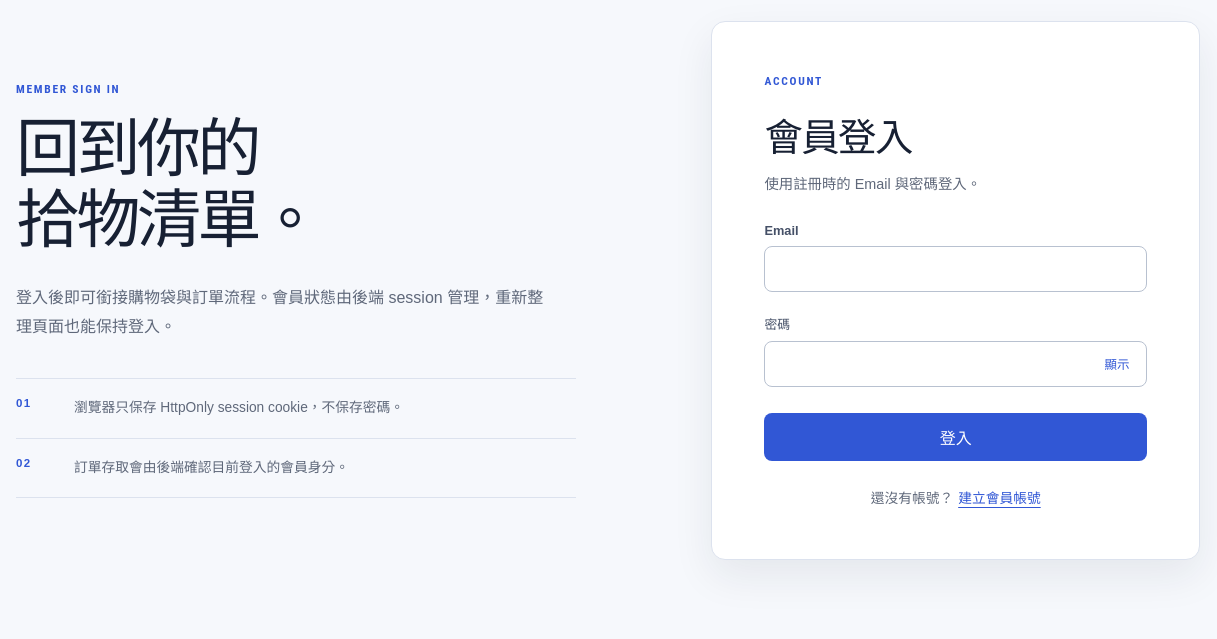
Test case: LoginPage › 阻止空白表單送出並聚焦 Email
Click the button "登入": (956, 436) [764,412,1147,460]
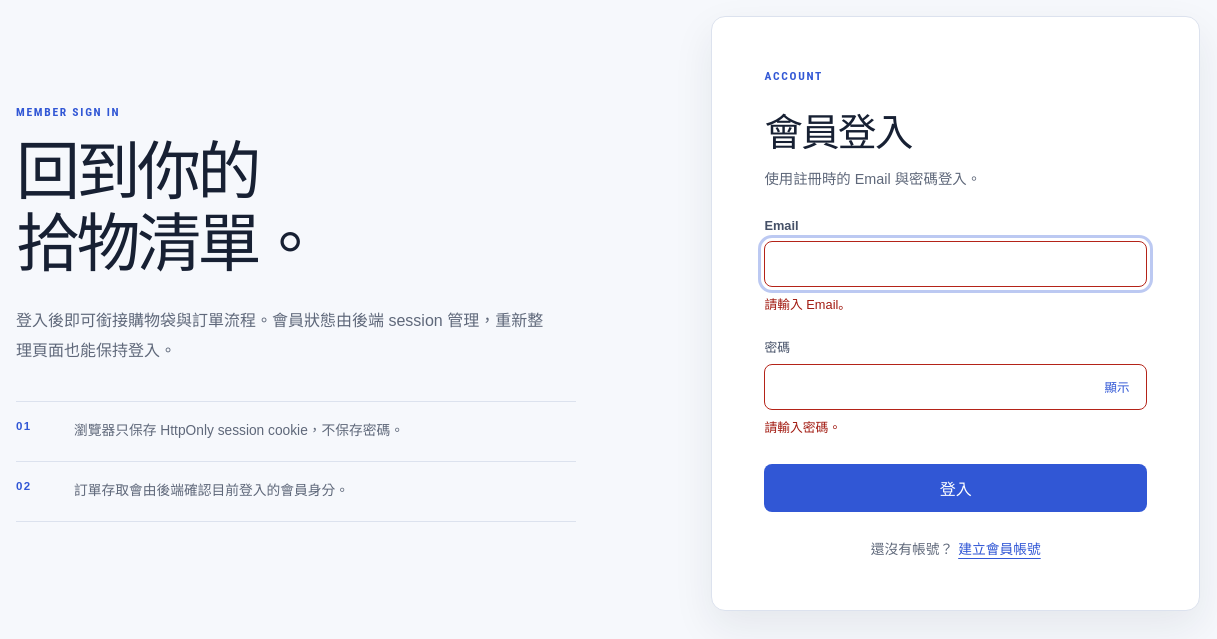
Expected: the text "請輸入 Email。" is shown, [764,297,851,312]
Expected: the text "請輸入密碼。" is shown, [764,420,841,435]
